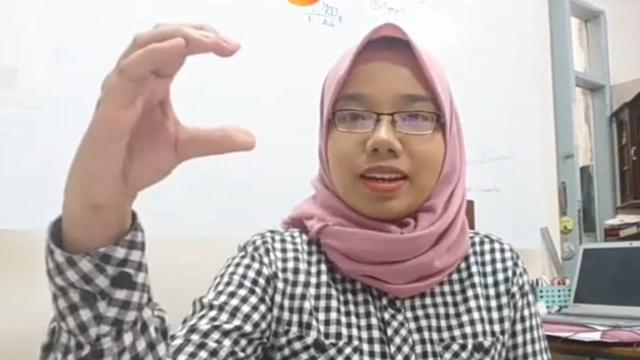C: (67, 21, 256, 206)
